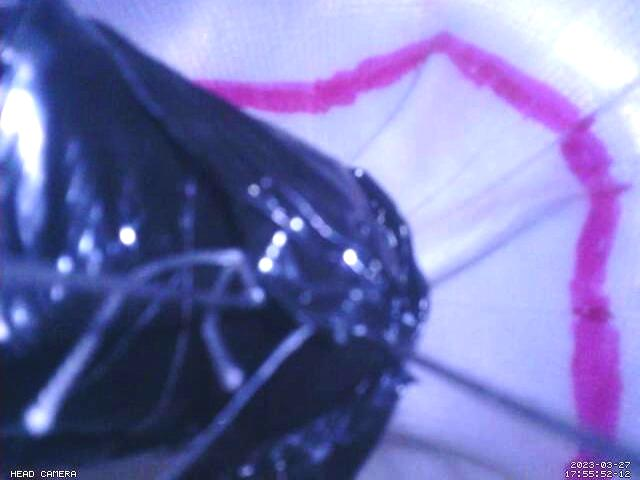red-circle: (192, 30, 625, 480)
